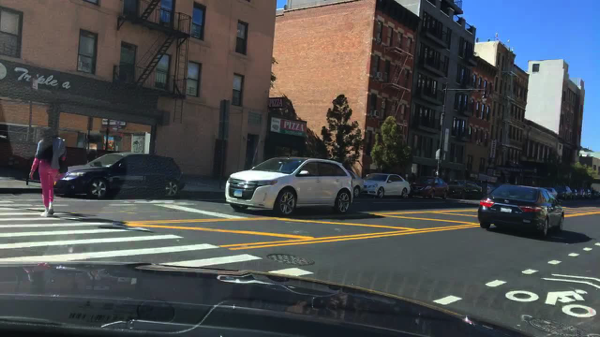car: (223, 155, 355, 217), (53, 151, 187, 200), (477, 182, 564, 238), (362, 173, 411, 199), (447, 179, 480, 201), (342, 169, 365, 199), (552, 185, 573, 201), (538, 186, 560, 199), (480, 183, 496, 195), (577, 188, 590, 201), (589, 190, 596, 201), (572, 188, 577, 199)
person: (28, 126, 68, 218), (412, 175, 447, 202), (403, 170, 418, 198)
traffic sign: (435, 148, 445, 159)
